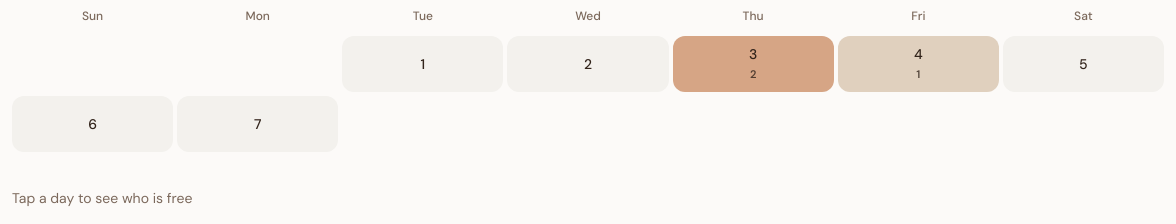
Test case: AvailabilityCalendar › who is free, in read-only mode › says so for a day nobody picked
The width and height of the screenshot is (1176, 224).
What coordinates should you click on to do the following:
click the button "6"
I would click on:
 (93, 124)
Its box is [12, 96, 173, 152].
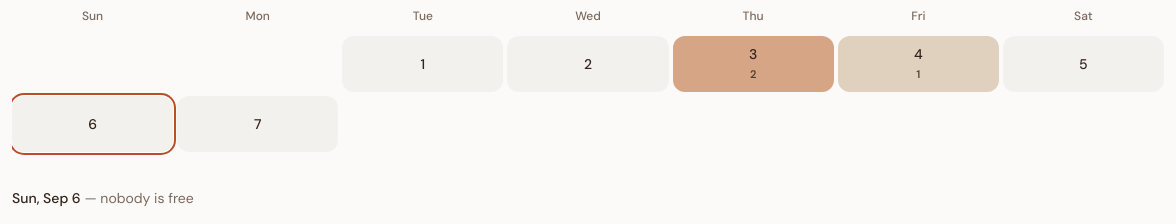
Expected: the element with test id "availability-detail" shows "nobody is free", [100, 189, 194, 207]
